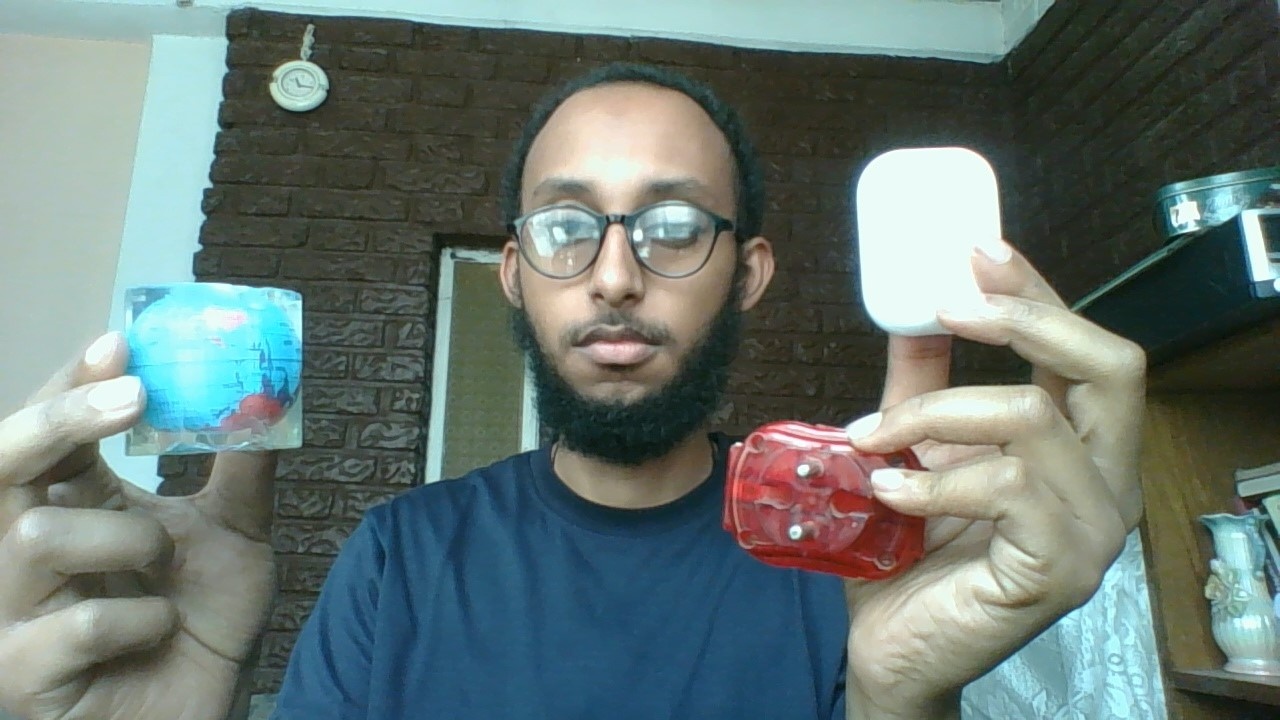Air_pod: (848, 140, 1021, 351)
Multi_adapter: (711, 406, 947, 591)
world_globe: (109, 272, 321, 475)
